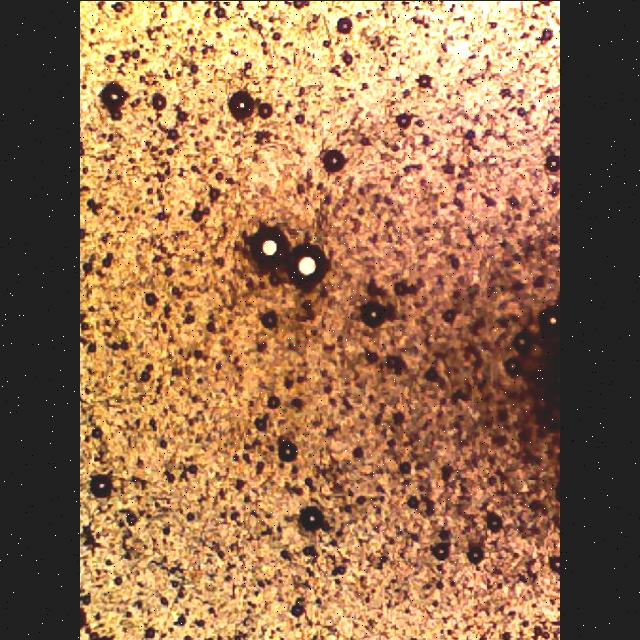microbeads: (245, 218, 293, 272), (284, 238, 328, 288)
